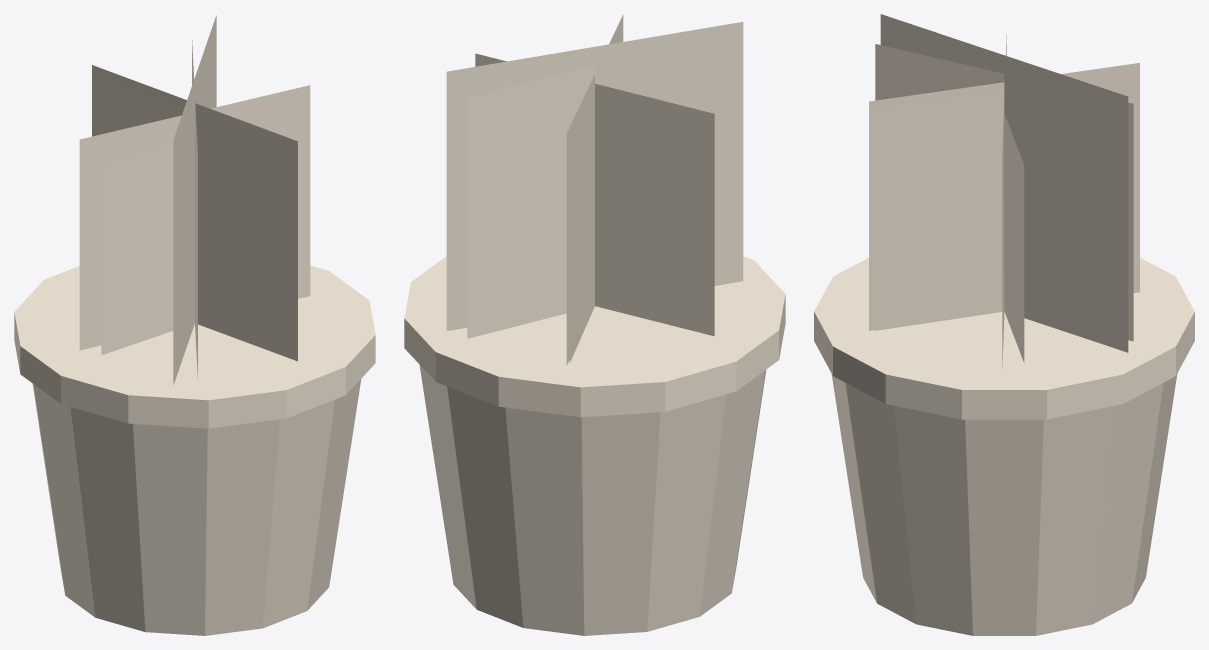
File: SM_VK_Prop_Planter.fbx
3 renders of one model, left to right at view 1: azimuth 30°, elevation 25°; view 2: azimuth 150°, elevation 25°; view 3: azimuth 270°, elevation 25°, orthographic. The views are drawn at different scales.
Visible parts, largest first — view 1: SM_VK_Prop_Planter.001; view 2: SM_VK_Prop_Planter.001; view 3: SM_VK_Prop_Planter.001.
Part boxes in pixels (x1,y1,x2,y2): SM_VK_Prop_Planter.001: (14,15,375,635); SM_VK_Prop_Planter.001: (404,14,785,635); SM_VK_Prop_Planter.001: (814,14,1194,635).
Size of the model in its own units: 0.6824 by 1.06 by 0.7.
